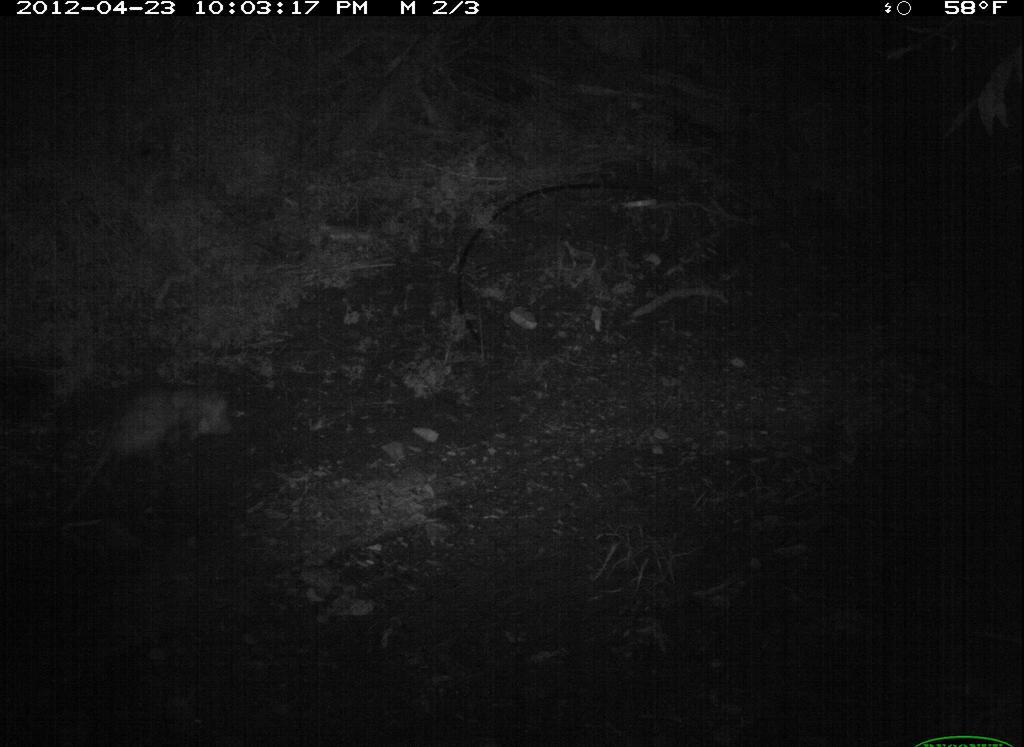opossum: (63, 374, 248, 519)
